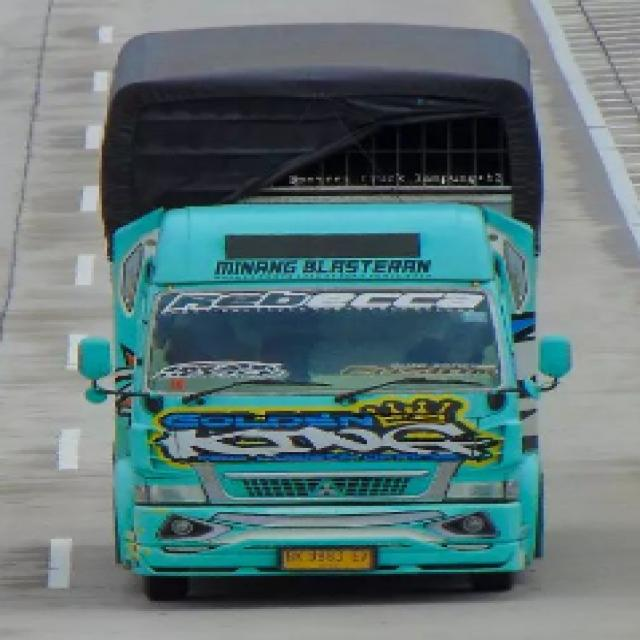Truck: (62, 23, 596, 600)
